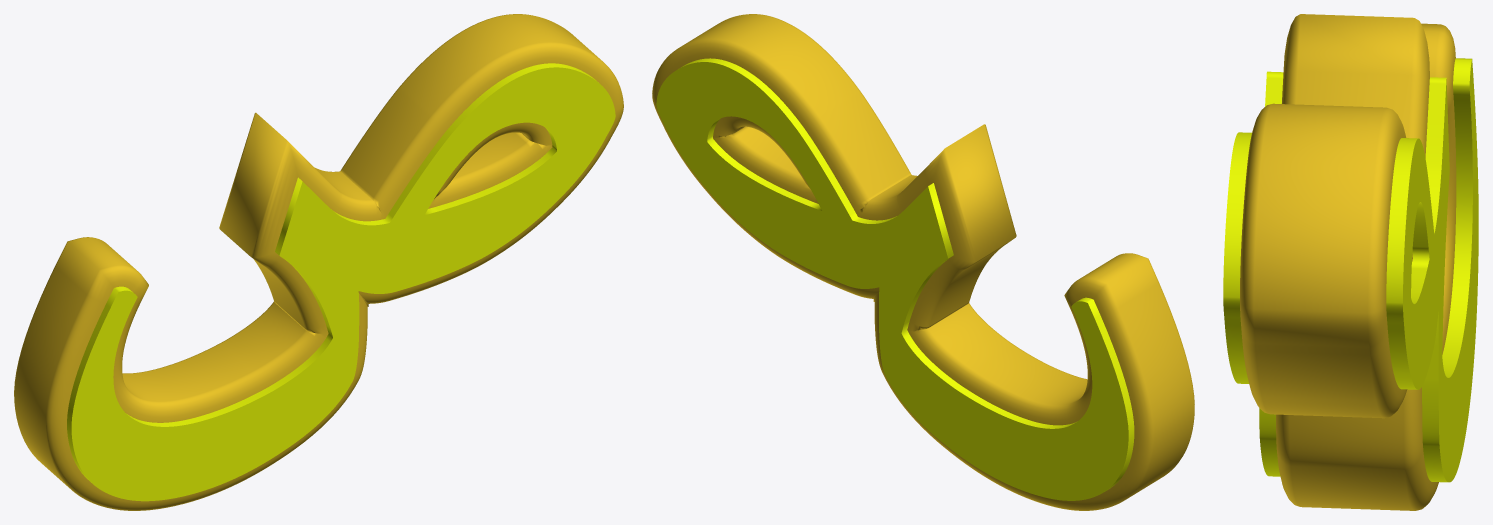
3 renders of one model, left to right at view 1: azimuth 30°, elevation 25°; view 2: azimuth 150°, elevation 25°; view 3: azimuth 270°, elevation 25°, orthographic. The views are drawn at different scales.
Parts seen in each view (by area): view 1: text 2, Text; view 2: text 2, Text; view 3: text 2, Text.
Part boxes in pixels (x1=…): text 2: x1=14, y1=14, x2=623, y2=510; Text: x1=67, y1=63, x2=615, y2=501; text 2: x1=652, y1=14, x2=1194, y2=510; Text: x1=656, y1=58, x2=1134, y2=500; text 2: x1=1240, y1=14, x2=1456, y2=510; Text: x1=1223, y1=58, x2=1478, y2=482.
Bounding box in the file's own units: 68.33 × 45.68 × 17.25.
